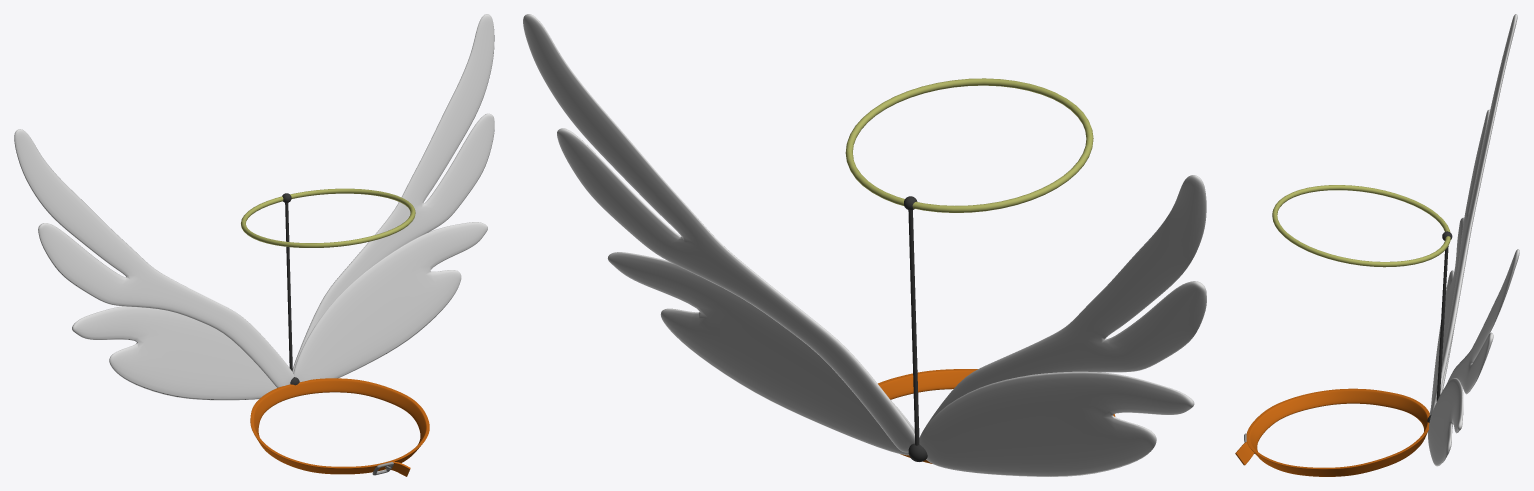
3 renders of one model, left to right at view 1: azimuth 30°, elevation 25°; view 2: azimuth 150°, elevation 25°; view 3: azimuth 270°, elevation 25°, orthographic. The views are drawn at different scales.
Parts seen in each view (by area): view 1: Wing 1_6, Wing 2_7, Belt_2, Halo_3, Rod_4; view 2: Wing 1_6, Wing 2_7, Halo_3, Belt_2, Rod_4; view 3: Belt_2, Wing 1_6, Wing 2_7, Halo_3, Rod_4.
Boxes of the visible parts, x1,y1,x2,y2 form: Wing 1_6: (14,129,294,400); Wing 2_7: (292,14,494,381); Belt_2: (250,378,429,476); Halo_3: (241,188,415,247); Rod_4: (285,203,292,371); Wing 1_6: (919,175,1206,476); Wing 2_7: (523,14,914,455); Halo_3: (845,78,1093,212); Belt_2: (878,369,1115,463); Rod_4: (908,210,919,445); Belt_2: (1235,388,1429,476); Wing 1_6: (1429,14,1517,415); Wing 2_7: (1428,249,1519,466); Halo_3: (1272,185,1452,267); Rod_4: (1436,246,1448,401).
Bounding box in the file's own units: 7.63 × 4.76 × 3.8.
